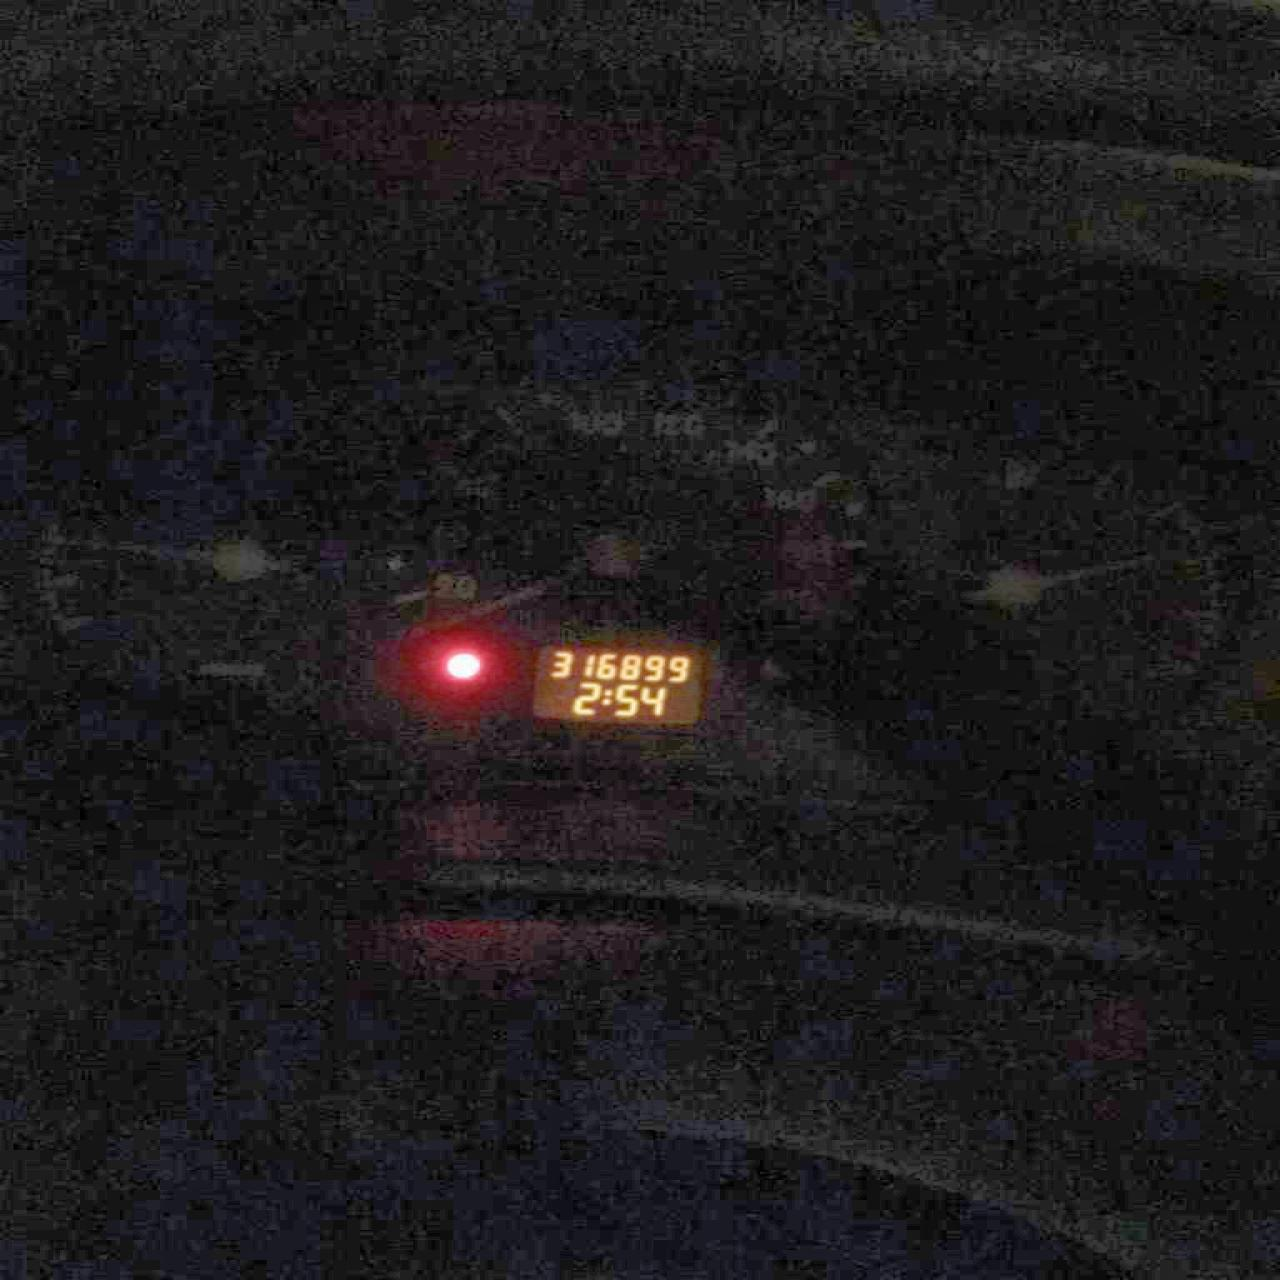1: (580, 651, 595, 678)
2: (570, 680, 600, 715)
3: (549, 649, 573, 679)
4: (639, 685, 668, 715)
5: (612, 681, 639, 716)
6: (595, 651, 617, 680)
8: (618, 652, 641, 680)
9: (641, 652, 666, 680), (667, 654, 688, 682)
X: (600, 686, 612, 704)
odometer: (520, 641, 712, 729)
